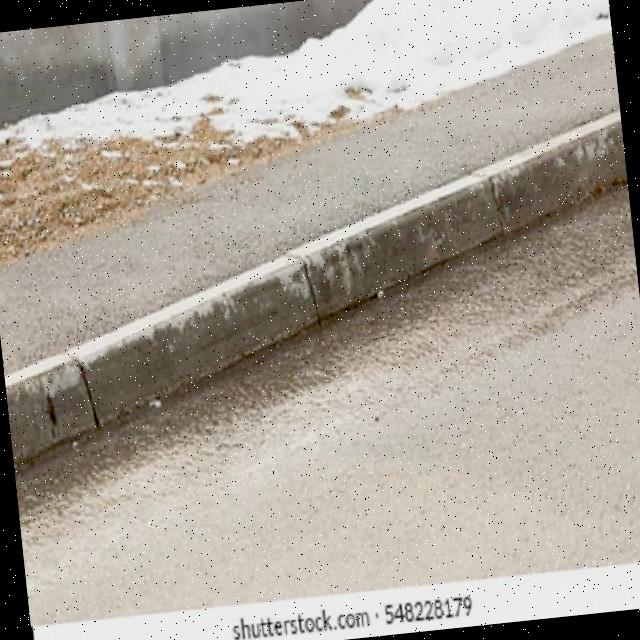curb: (159, 232, 367, 379), (2, 332, 179, 472), (461, 110, 629, 243), (336, 177, 499, 302)
